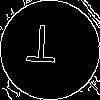T: (25, 25, 58, 72)
